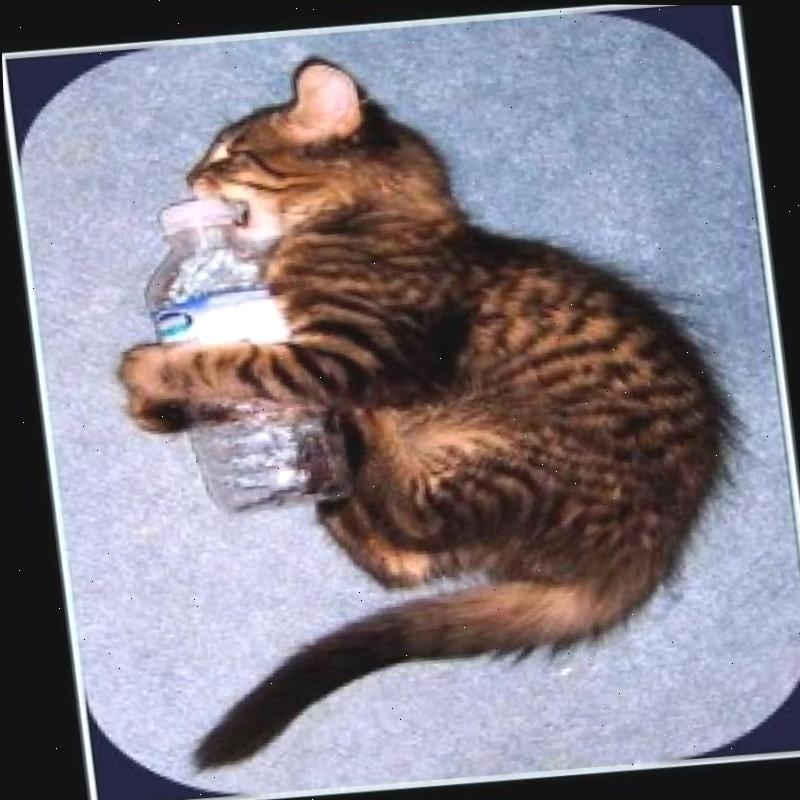botella: (129, 188, 326, 521)
